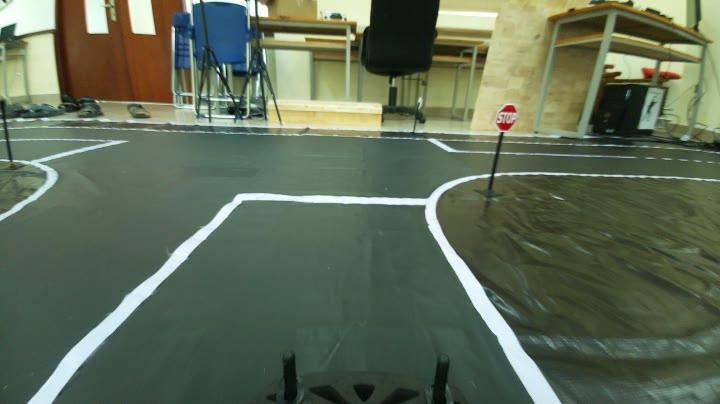stop: (491, 100, 521, 138)
